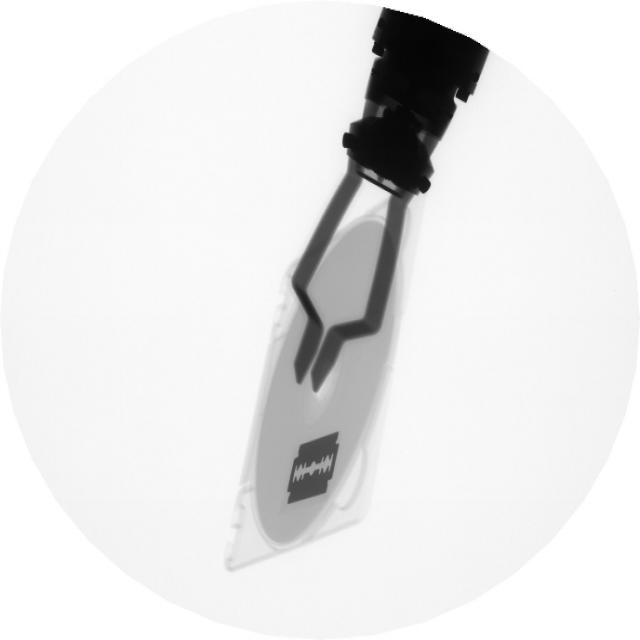BLADE: (284, 425, 345, 514)
